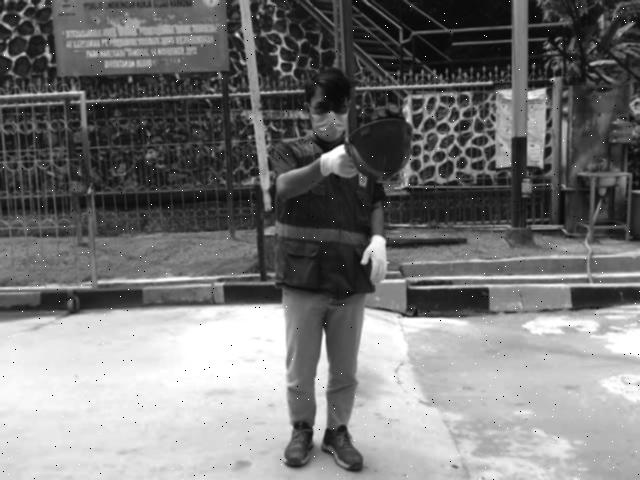gloves: (311, 142, 360, 181), (360, 234, 393, 288)
helmet: (345, 115, 418, 184)
mask: (309, 111, 347, 140)
safety-shoes: (319, 421, 365, 476), (280, 415, 317, 470)
